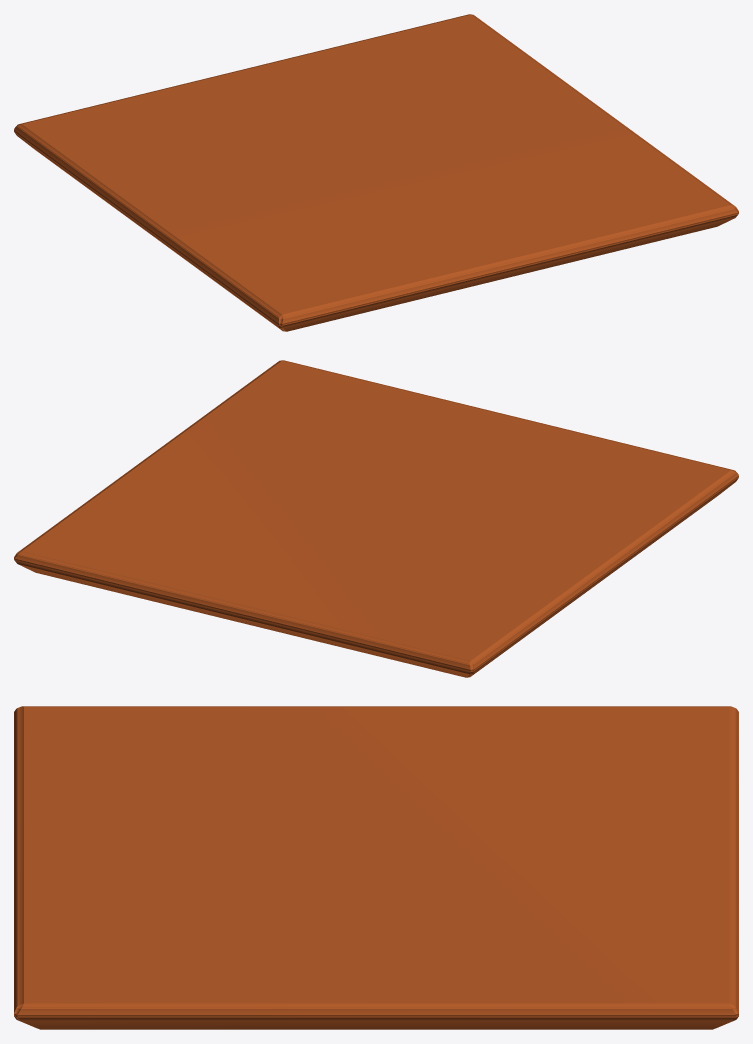
File: CabinetdoormeshDeskDoor_310_2_3.obj
3 renders of one model, top to bottom at view 1: azimuth 30°, elevation 25°; view 2: azimuth 150°, elevation 25°; view 3: azimuth 270°, elevation 25°, orthographic. The views are drawn at different scales.
Visible parts, largest first — view 1: DeskDoor_310_2; view 2: DeskDoor_310_2; view 3: DeskDoor_310_2.
Part boxes in pixels (left/top/right/bottom): DeskDoor_310_2: left=14, top=14, right=738, bottom=331; DeskDoor_310_2: left=14, top=360, right=738, bottom=677; DeskDoor_310_2: left=14, top=706, right=738, bottom=1029.
Bounding box in the file's own units: 0.3812 × 0.0191 × 0.3841.
